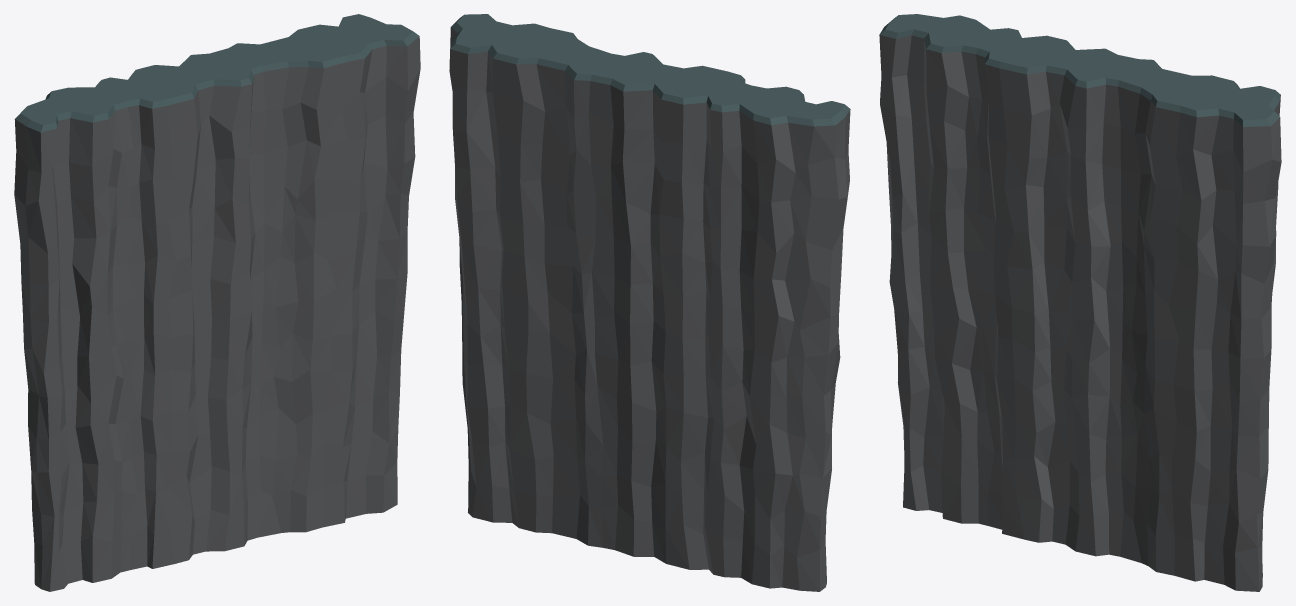
File: Cliff.fbx
The picture shows the model from 3 angles, left to right: view 1: azimuth 30°, elevation 25°; view 2: azimuth 150°, elevation 25°; view 3: azimuth 330°, elevation 25°; orthographic projection.
Parts seen in each view (by area): view 1: Plane; view 2: Plane; view 3: Plane.
Boxes of the visible parts, x1=… form: Plane: x1=14, y1=14, x2=420, y2=591; Plane: x1=449, y1=14, x2=850, y2=591; Plane: x1=879, y1=14, x2=1281, y2=591.
Bounding box in the file's own units: 14871 × 17181 × 2916.
